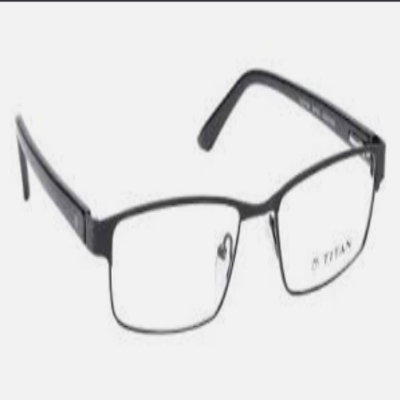glasses: (10, 67, 392, 338)
